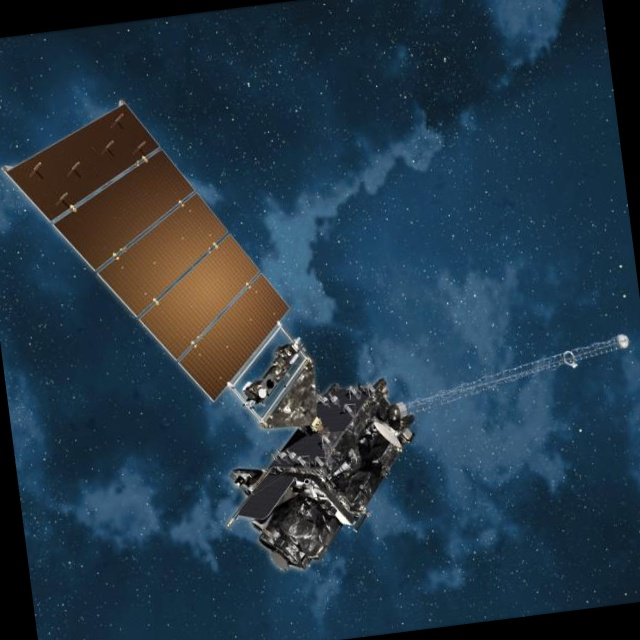medium_debris: (3, 47, 640, 602)
